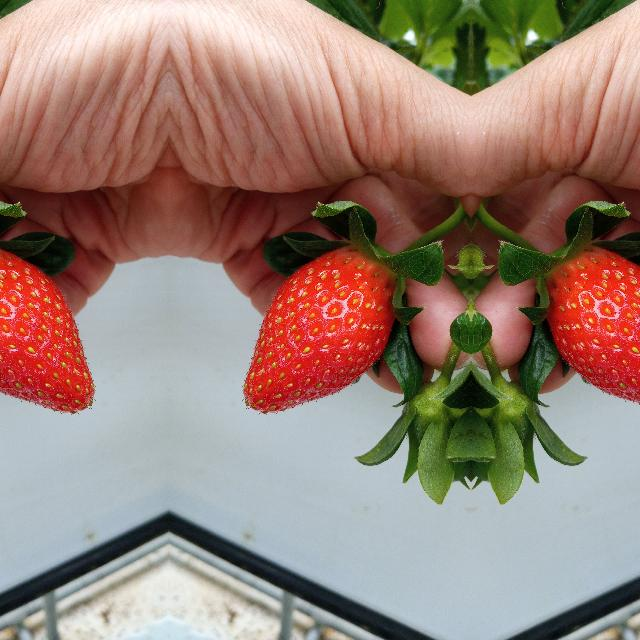Health_100: (240, 243, 396, 414), (0, 243, 95, 414), (545, 243, 640, 414)
